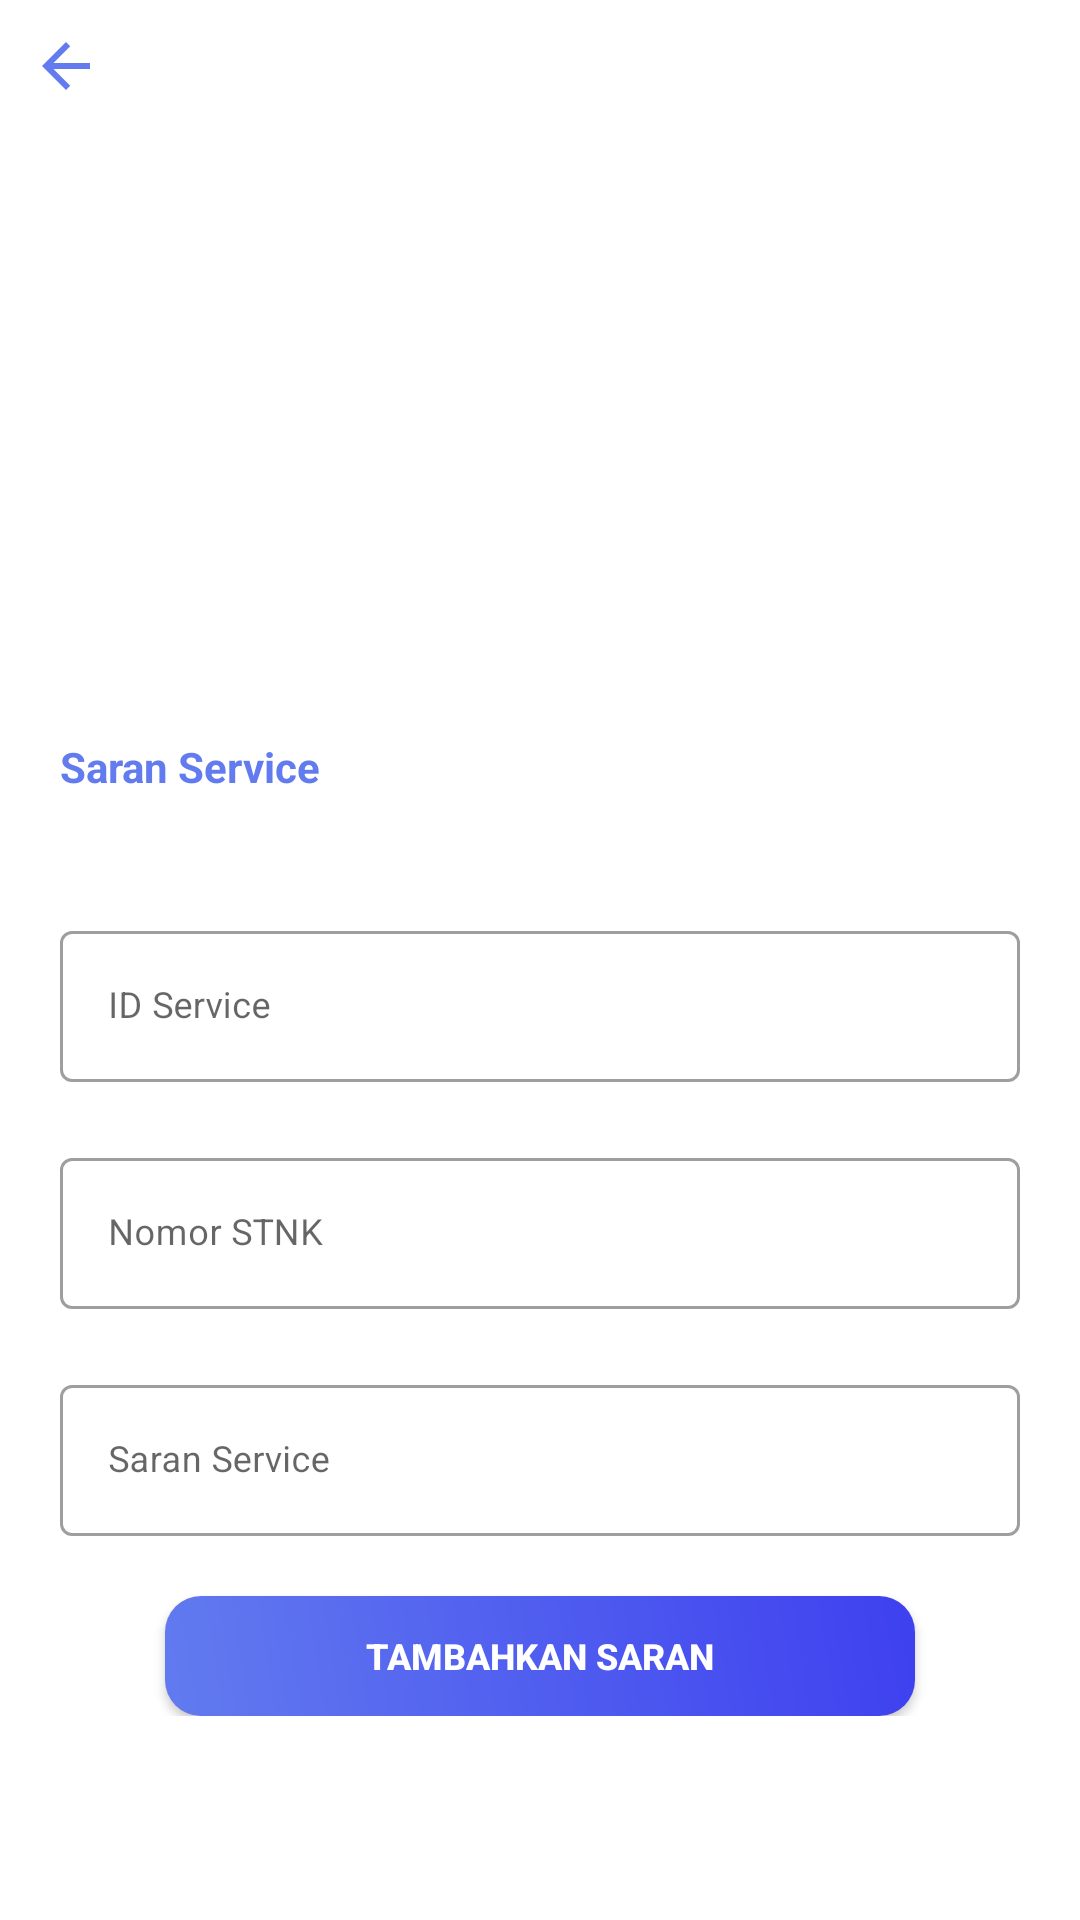

Named icons in this screenshot (1080*1920) and their centers, (x,y):
arrow back: (66,66)
